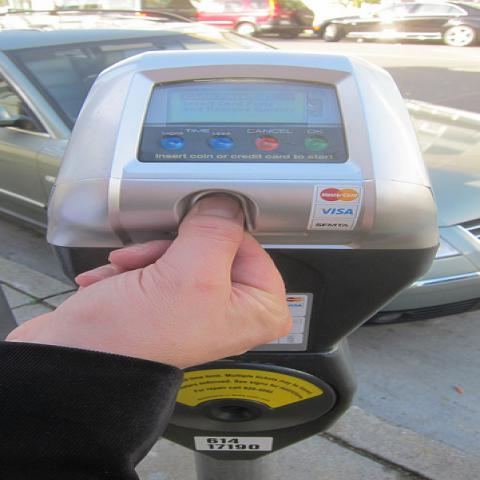car: (0, 8, 479, 327), (318, 2, 479, 48), (184, 0, 314, 39)
